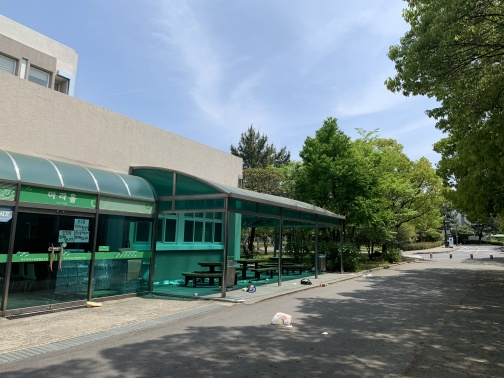Ara Hall: (1, 145, 363, 313)
